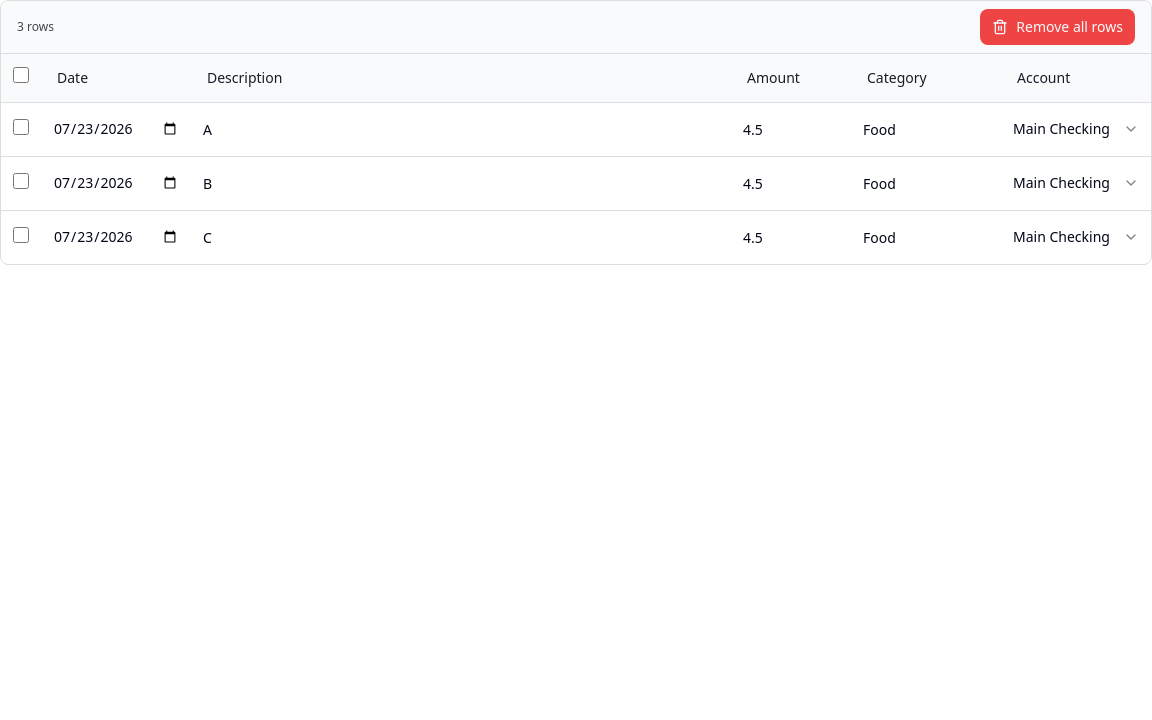
Test case: AirtableTable › closes the bulk-delete confirm modal after the user confirms
Click the checkbox named "select transaction " at (21, 126), box [13,118,29,134]
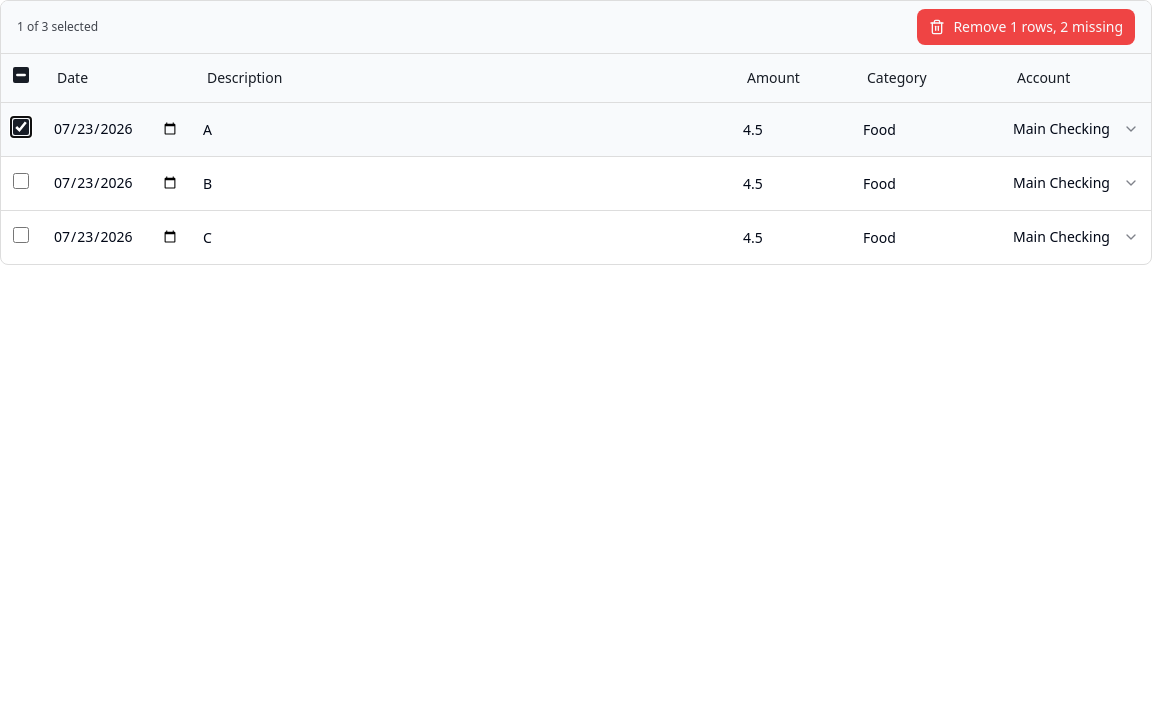
Click the checkbox named "select transaction " at (21, 180), box [13,172,29,188]
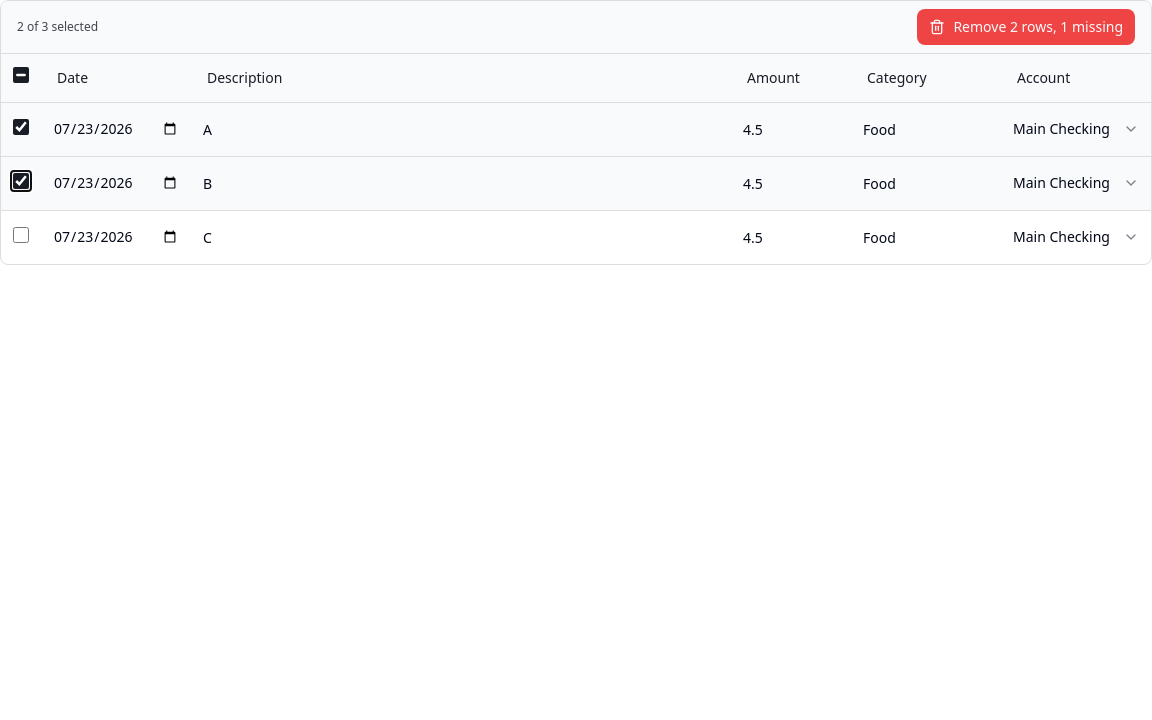
Click the button "Remove 2 rows, 1 missing" at (1026, 27), box [917,9,1135,45]
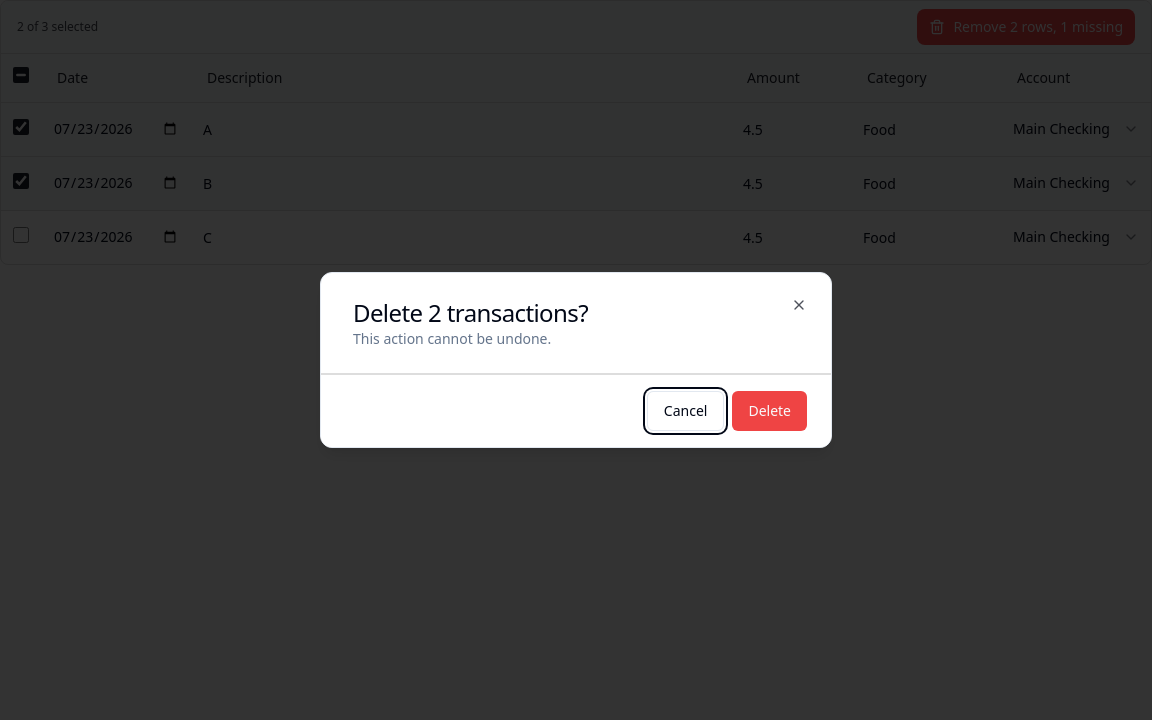
Click the button "Delete" at (770, 411), box [732,391,807,431]
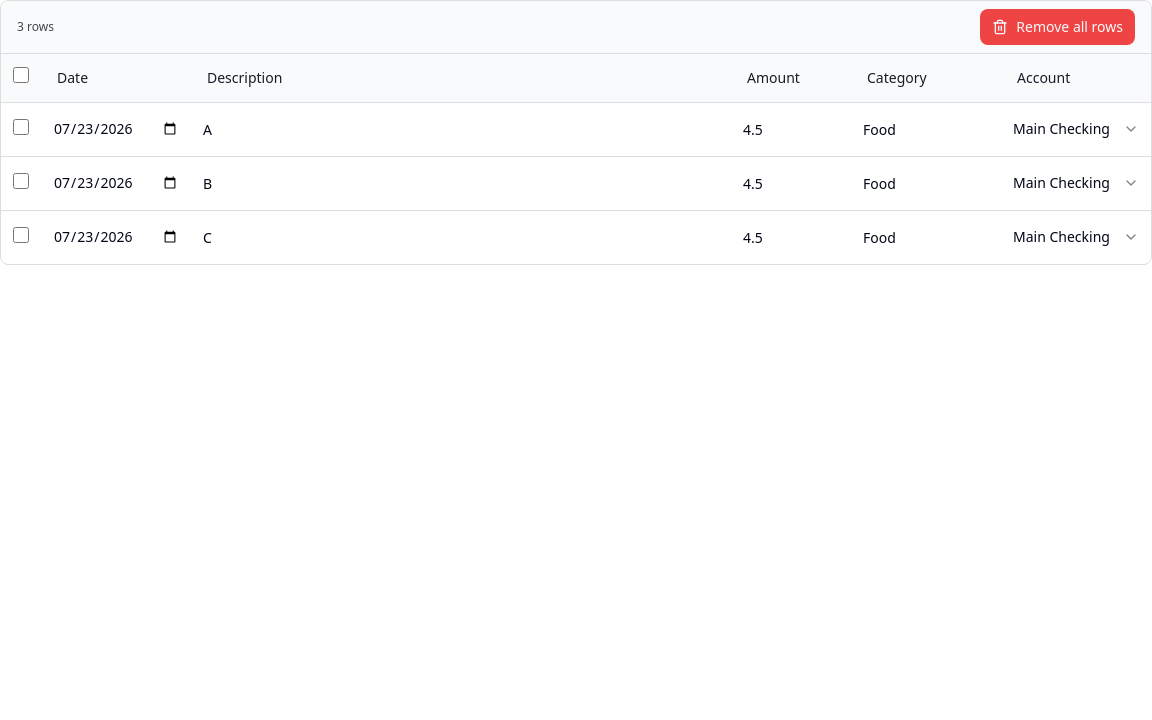
expect the button "Delete" is gone: met
